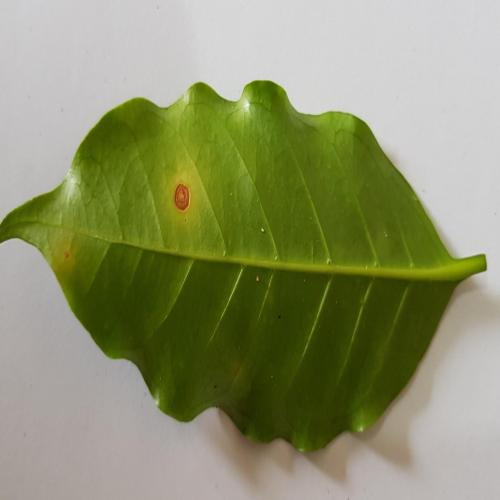cercospora: (173, 181, 191, 216)
